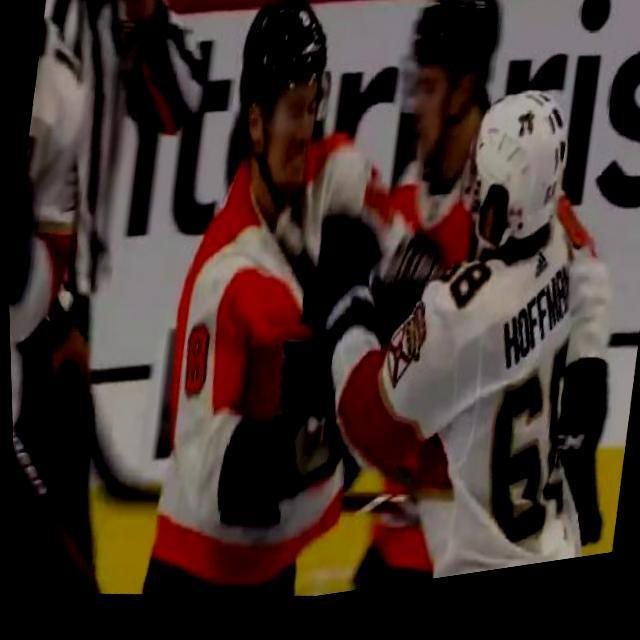fight: (127, 0, 640, 625)
